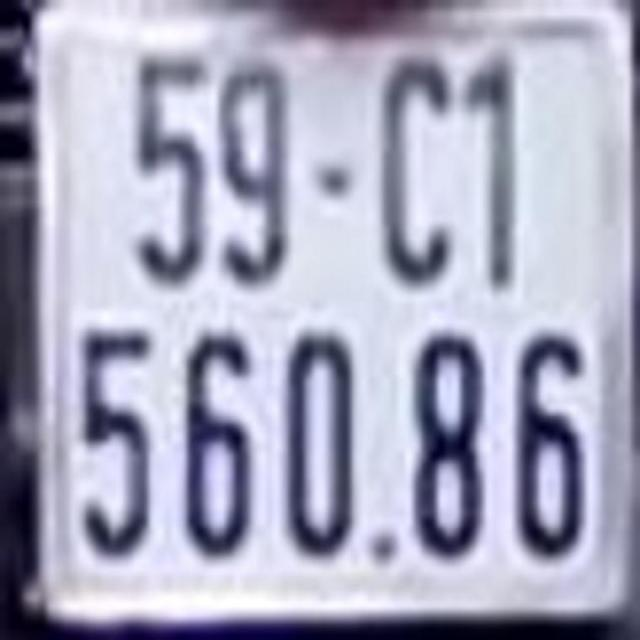0: (285, 328, 358, 563)
1: (467, 44, 522, 292)
5: (76, 321, 152, 554), (135, 50, 206, 284)
6: (182, 327, 254, 555), (516, 332, 584, 551)
8: (412, 329, 487, 554)
9: (221, 59, 287, 284)
C: (380, 52, 456, 278)
